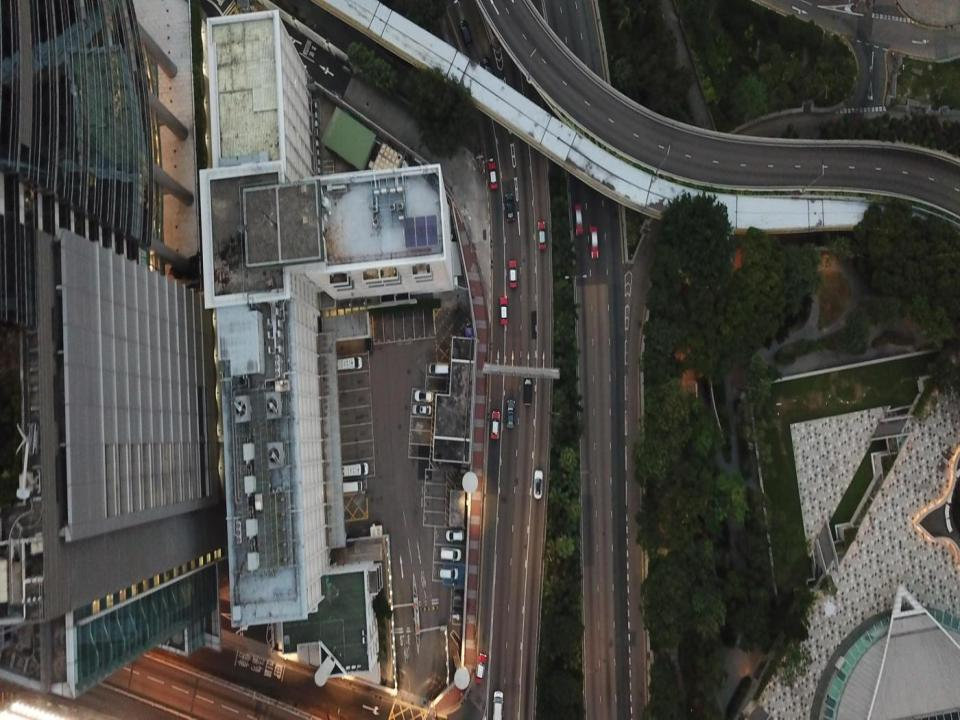car: (475, 654, 486, 684), (589, 226, 599, 258), (523, 376, 532, 406), (537, 221, 546, 250), (574, 205, 583, 234), (490, 411, 499, 439), (504, 194, 513, 221), (508, 260, 517, 287), (534, 470, 542, 500), (507, 400, 515, 429), (446, 529, 464, 541), (488, 162, 496, 188), (500, 298, 507, 324)
van: (459, 20, 472, 46), (439, 547, 461, 561), (492, 691, 502, 719), (482, 57, 493, 81), (438, 568, 458, 580)
